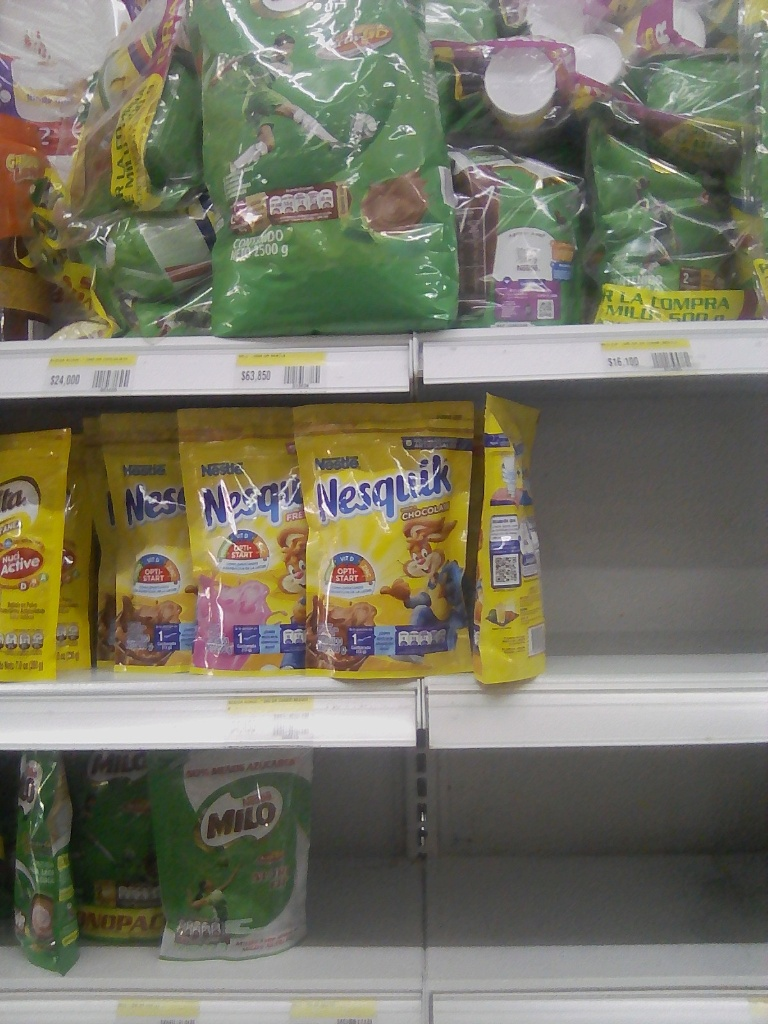COL0170203DYP25000: (76, 752, 171, 942)
COL0170203DYP50000: (591, 123, 731, 314)
COL0170205DYP20000: (153, 750, 312, 962)
COL0170303DYP20000: (105, 420, 198, 681)
COL0170305DYP20000: (181, 411, 300, 670)
